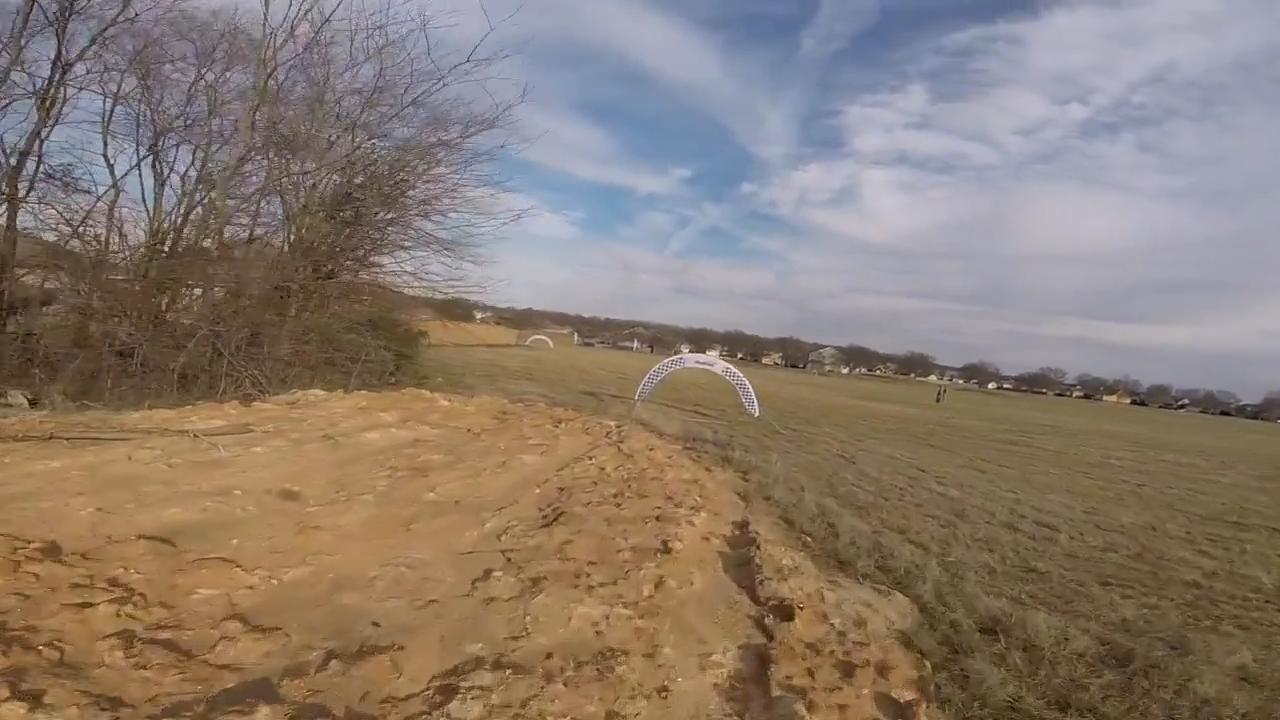gate: (635, 354, 763, 422)
